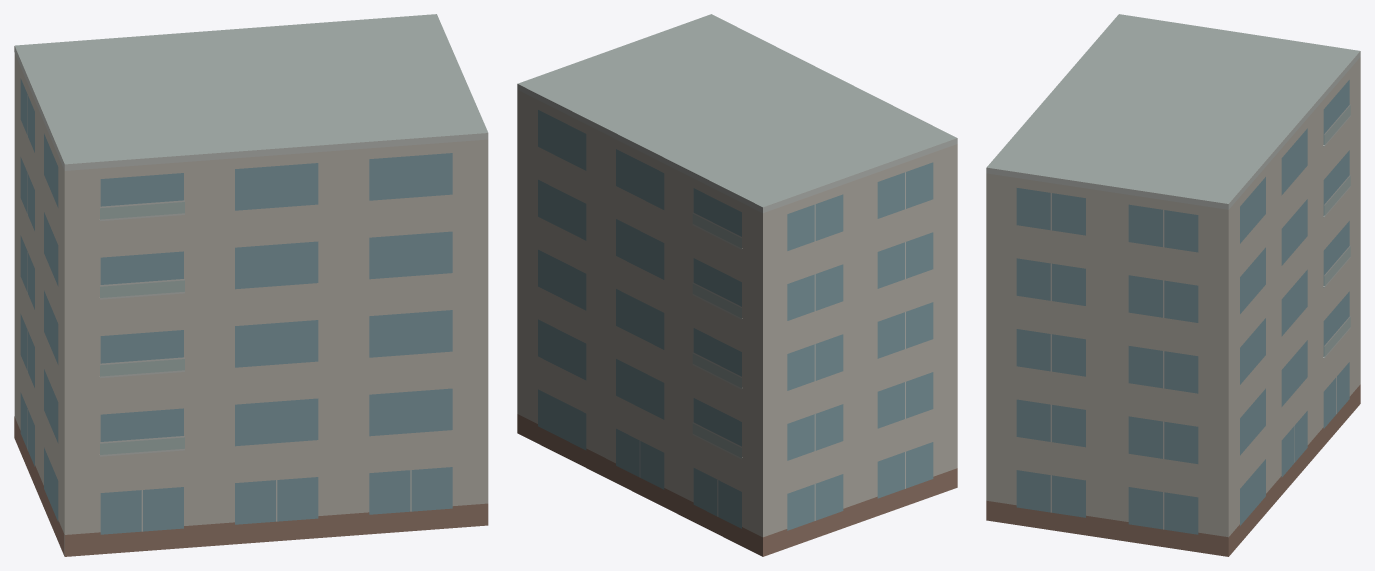
Rendered from survey-upis-33013511.glb.
The picture shows the model from 3 angles, left to right: view 1: azimuth 30°, elevation 25°; view 2: azimuth 150°, elevation 25°; view 3: azimuth 270°, elevation 25°; orthographic projection. The views are drawn at different scales.
Parts seen in each view (by area): view 1: survey-upis-33013511.tmp; view 2: survey-upis-33013511.tmp; view 3: survey-upis-33013511.tmp.
Boxes of the visible parts, box(x1,y1,x2,y2) form: survey-upis-33013511.tmp: box(14, 14, 488, 556); survey-upis-33013511.tmp: box(517, 14, 957, 556); survey-upis-33013511.tmp: box(986, 14, 1360, 556).
Bounding box in the file's own units: 16.87 × 14.6 × 14.04.
